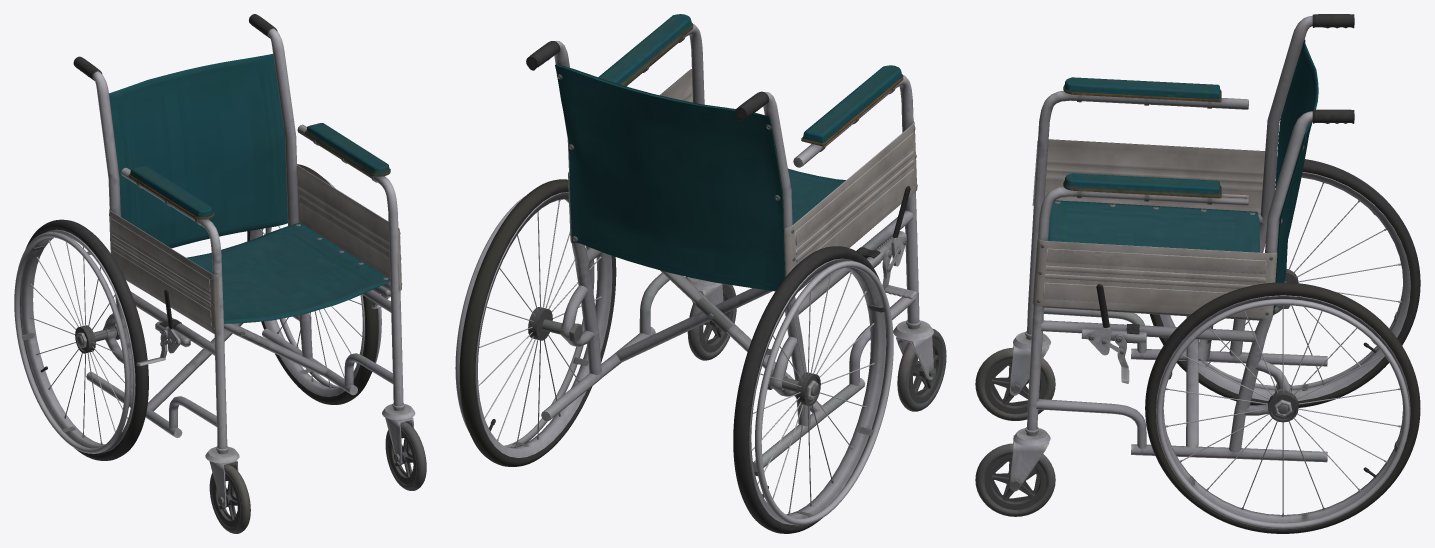
The picture shows the model from 3 angles, left to right: view 1: azimuth 30°, elevation 25°; view 2: azimuth 150°, elevation 25°; view 3: azimuth 270°, elevation 25°; orthographic projection. The views are drawn at different scales.
Parts seen in each view (by area): view 1: wheelchair_01; view 2: wheelchair_01; view 3: wheelchair_01.
Boxes of the visible parts, x1,y1,x2,y2 form: wheelchair_01: (14,14,426,533); wheelchair_01: (455,14,946,533); wheelchair_01: (975,14,1420,533).
Bounding box in the file's own units: 0.8241 × 1.1 × 1.09.
Materials: 1 (1 with a texture image).
